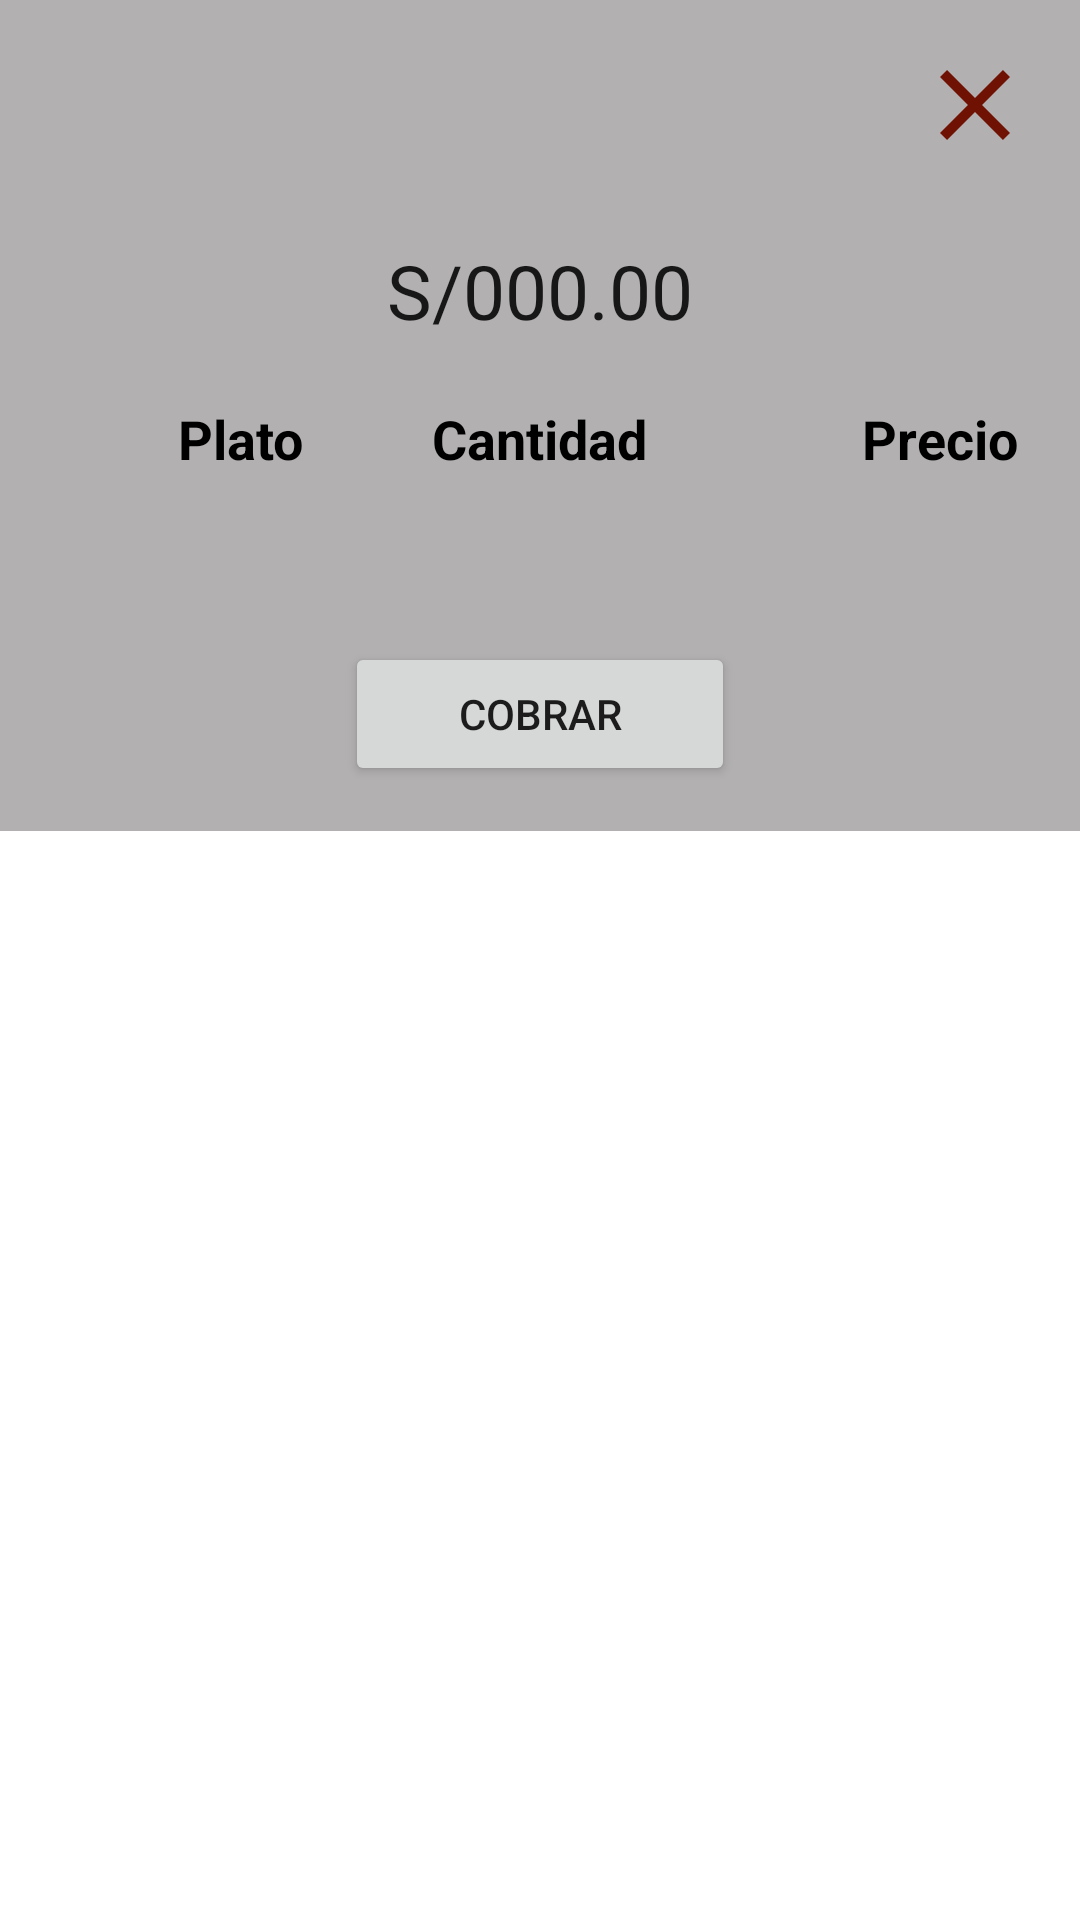

Where to tap for icons on this 1080*1920 app screen, as [x,y]:
close: [975,105]
